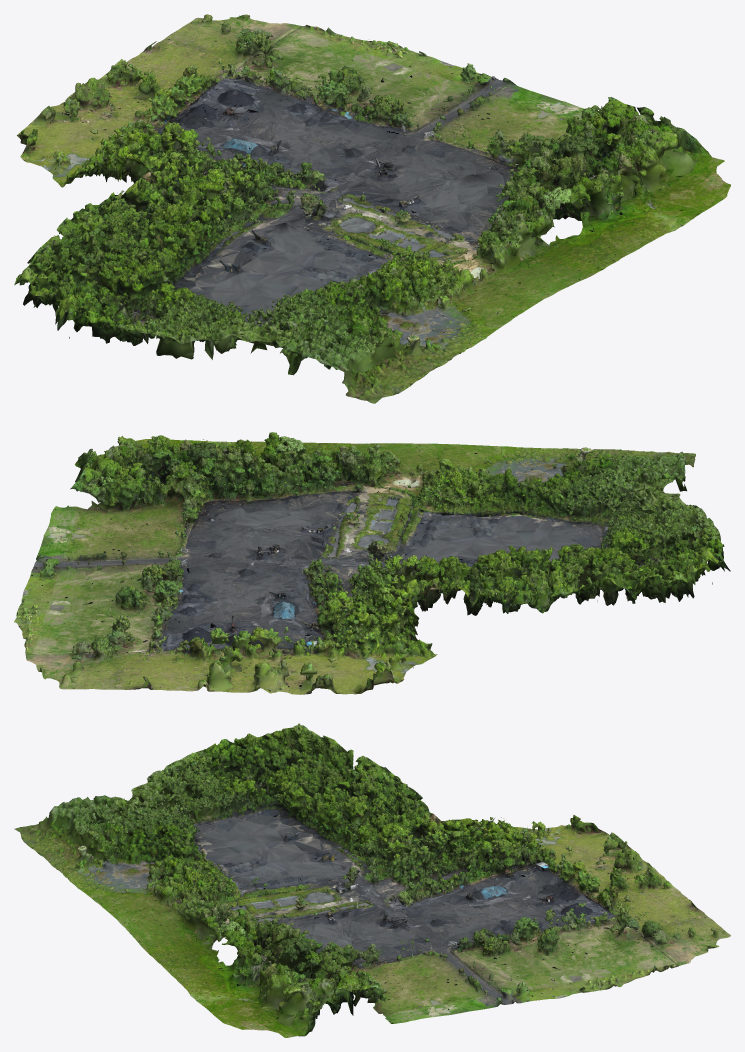
The model's file is plano_relieve.glb.
The picture shows the model from 3 angles, top to bottom: view 1: azimuth 30°, elevation 25°; view 2: azimuth 150°, elevation 25°; view 3: azimuth 270°, elevation 25°; orthographic projection. The views are drawn at different scales.
Parts seen in each view (by area): view 1: BlockYA, BlockYX, BlockBX, BlockBA; view 2: BlockBX, BlockBA, BlockYA, BlockYX; view 3: BlockYX, BlockBX, BlockYA, BlockBA.
Boxes of the visible parts, left/top/right/bottom form: BlockYA: left=285, top=106, right=730, bottom=351; BlockYX: left=14, top=208, right=462, bottom=403; BlockBX: left=17, top=36, right=390, bottom=252; BlockBA: left=169, top=14, right=636, bottom=195; BlockBX: left=108, top=536, right=597, bottom=694; BlockBA: left=14, top=461, right=307, bottom=689; BlockYA: left=75, top=432, right=559, bottom=564; BlockYX: left=406, top=447, right=730, bottom=605; BlockYX: left=14, top=723, right=353, bottom=877; BlockBX: left=351, top=756, right=711, bottom=919; BlockYA: left=65, top=857, right=353, bottom=1037; BlockBA: left=351, top=902, right=730, bottom=1023.
Bounding box in the file's own units: 0.824 × 0.1057 × 0.9062.
Materials: 41 (41 with a texture image).
